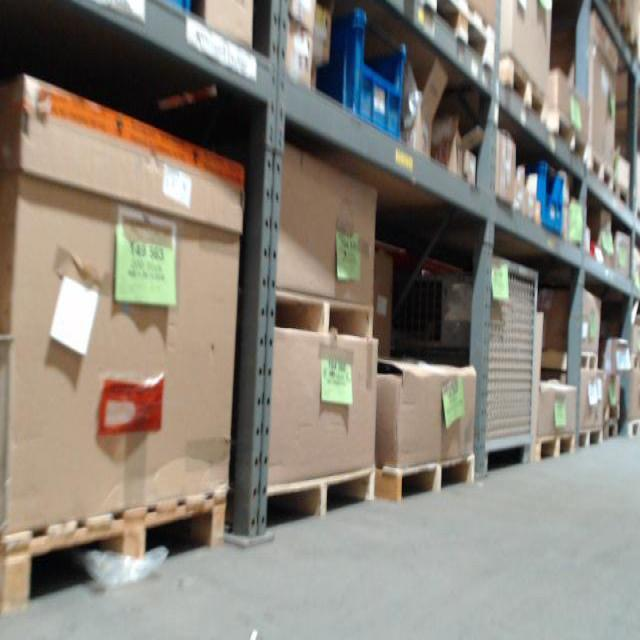pallet: (1, 485, 228, 608), (252, 460, 378, 531), (376, 450, 478, 508), (272, 290, 378, 342), (421, 0, 491, 75), (502, 57, 554, 125), (554, 117, 590, 169), (532, 433, 576, 466), (588, 153, 615, 197), (542, 347, 596, 369), (573, 426, 606, 454), (616, 178, 629, 208), (601, 422, 619, 442), (601, 403, 618, 421), (625, 419, 638, 434)
small_load_carrier: (316, 12, 415, 143), (524, 161, 570, 239)
stillage: (414, 249, 542, 478)
